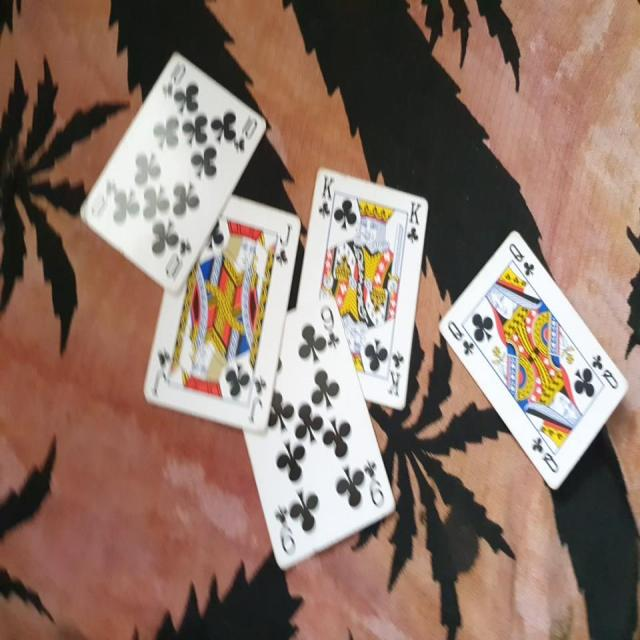10 Trefoils: (75, 51, 266, 292)
9 Trefoils: (243, 294, 394, 569)
J Trefoils: (144, 195, 302, 433)
K Trefoils: (298, 165, 430, 412)
Q Trefoils: (438, 225, 632, 491)
